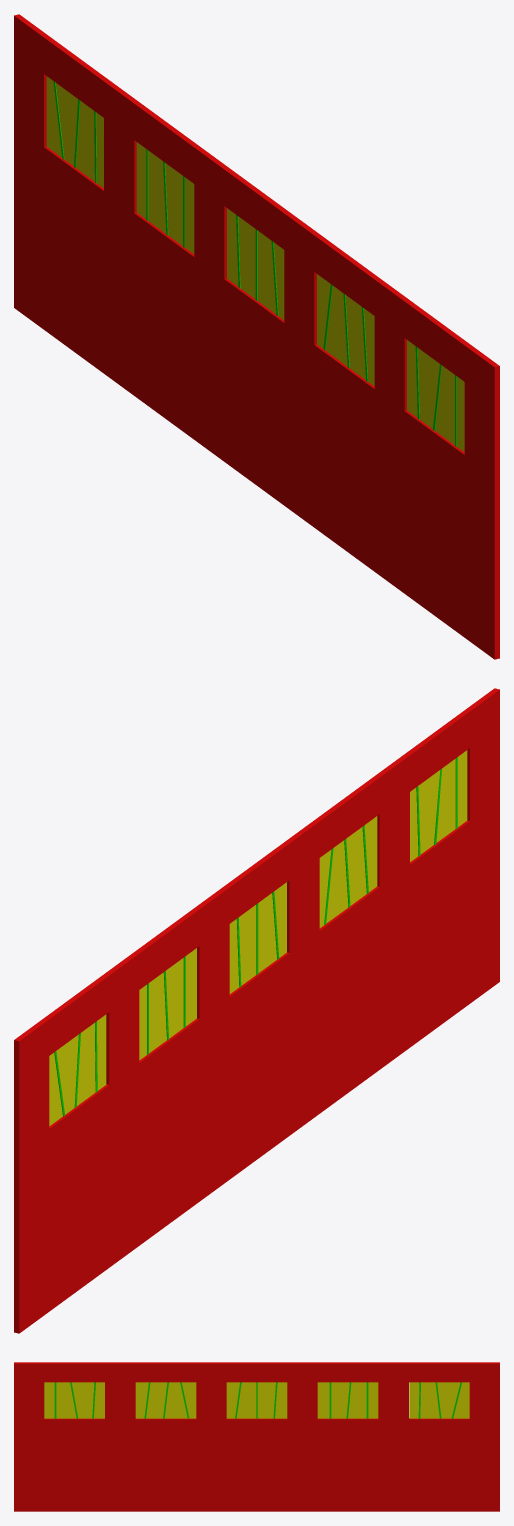
The model's file is factory_wall_01.fbx.
3 views of the same model, one above another, from view 1: azimuth 30°, elevation 25°; view 2: azimuth 150°, elevation 25°; view 3: azimuth 270°, elevation 25° (orthographic). The views are drawn at different scales.
Parts seen in each view (by area): view 1: wall_01, windowpanels, windowframes; view 2: wall_01, windowpanels, windowframes; view 3: wall_01, windowpanels, windowframes.
Boxes of the visible parts, x1=… form: wall_01: x1=14, y1=14, x2=499, y2=659; windowpanels: x1=46, y1=76, x2=464, y2=452; windowframes: x1=53, y1=81, x2=456, y2=446; wall_01: x1=14, y1=688, x2=499, y2=1333; windowpanels: x1=49, y1=750, x2=467, y2=1126; windowframes: x1=54, y1=757, x2=457, y2=1116; wall_01: x1=14, y1=1362, x2=499, y2=1511; windowpanels: x1=44, y1=1382, x2=469, y2=1418; windowframes: x1=54, y1=1382, x2=461, y2=1418.
Bounding box in the file's own units: 0.5 × 26.36 × 78.55.
